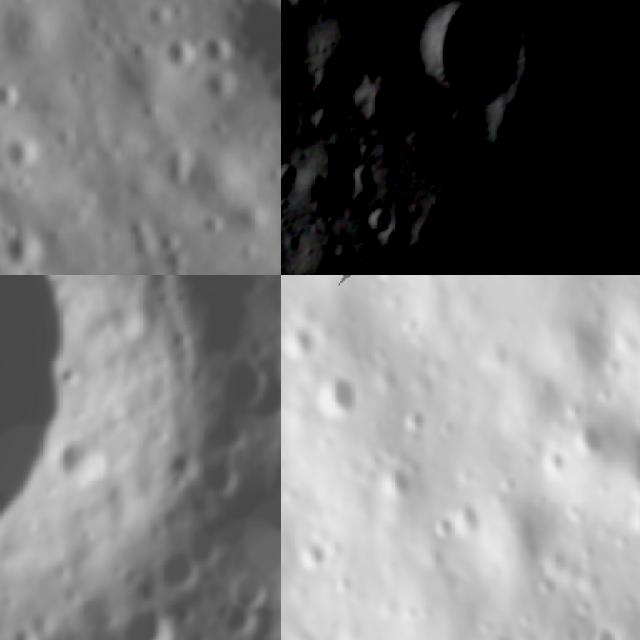crater: (0, 275, 218, 640), (391, 40, 640, 275), (407, 0, 541, 131), (195, 0, 281, 100), (214, 348, 281, 415), (348, 75, 411, 146), (0, 116, 56, 184), (0, 209, 50, 274), (183, 509, 236, 564), (156, 541, 207, 598), (116, 602, 182, 640), (612, 424, 640, 510), (316, 366, 357, 420), (230, 564, 272, 608), (346, 164, 380, 211), (374, 462, 412, 504), (281, 321, 317, 364), (571, 417, 605, 460), (361, 200, 393, 243), (0, 70, 28, 119), (430, 510, 456, 544), (32, 260, 89, 275), (401, 402, 427, 433), (541, 446, 567, 476), (588, 621, 625, 640), (281, 77, 291, 125)
